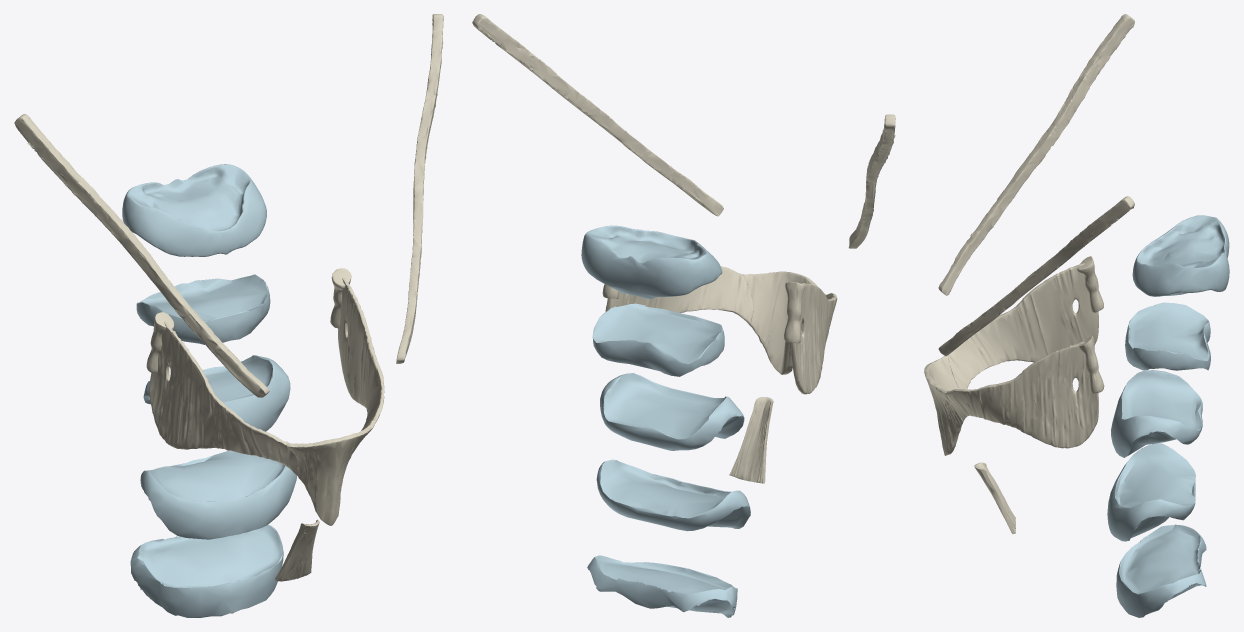
File: joints.neck.glb
3 renders of one model, left to right at view 1: azimuth 30°, elevation 25°; view 2: azimuth 150°, elevation 25°; view 3: azimuth 270°, elevation 25°, orthographic. The views are drawn at different scales.
Parts seen in each view (by area): view 1: intervertebral_disk_of_sixth_cervical_vertebra, intervertebral_disk_of_fifth_cervical_vertebra, intervertebral_disk_of_axis, right_thyrohyoid_membrane, right_stylohyoid_ligament, intervertebral_disk_of_third_cervical_vertebra, left_thyrohyoid_membrane, left_stylohyoid_ligament, intervertebral_disk_of_fourth_cervical_vertebra, median_thyrohyoid_ligament, median_cricothyroid_ligament, right_lateral_thyrohyoid_ligament (+1 smaller); view 2: intervertebral_disk_of_fourth_cervical_vertebra, intervertebral_disk_of_axis, intervertebral_disk_of_third_cervical_vertebra, intervertebral_disk_of_fifth_cervical_vertebra, intervertebral_disk_of_sixth_cervical_vertebra, left_stylohyoid_ligament, median_thyrohyoid_ligament, left_thyrohyoid_membrane, right_thyrohyoid_membrane, median_cricothyroid_ligament, right_stylohyoid_ligament, right_lateral_thyrohyoid_ligament; view 3: left_thyrohyoid_membrane, right_thyrohyoid_membrane, intervertebral_disk_of_fifth_cervical_vertebra, intervertebral_disk_of_axis, intervertebral_disk_of_sixth_cervical_vertebra, intervertebral_disk_of_fourth_cervical_vertebra, intervertebral_disk_of_third_cervical_vertebra, right_stylohyoid_ligament, left_stylohyoid_ligament, median_thyrohyoid_ligament, median_cricothyroid_ligament, right_lateral_thyrohyoid_ligament (+1 smaller).
Boxes of the visible parts, x1,y1,x2,y2 form: intervertebral_disk_of_sixth_cervical_vertebra: (130,524,283,617); intervertebral_disk_of_fifth_cervical_vertebra: (140,450,296,539); intervertebral_disk_of_axis: (122,164,266,256); right_thyrohyoid_membrane: (149,321,297,473); right_stylohyoid_ligament: (14,114,269,397); intervertebral_disk_of_third_cervical_vertebra: (136,274,270,344); left_thyrohyoid_membrane: (338,277,384,430); left_stylohyoid_ligament: (396,14,443,363); intervertebral_disk_of_fourth_cervical_vertebra: (143,355,290,448); median_thyrohyoid_ligament: (287,422,374,525); median_cricothyroid_ligament: (275,519,319,581); right_lateral_thyrohyoid_ligament: (146,312,174,373); intervertebral_disk_of_fourth_cervical_vertebra: (600,373,744,450); intervertebral_disk_of_axis: (581,225,722,299); intervertebral_disk_of_third_cervical_vertebra: (592,303,724,376); intervertebral_disk_of_fifth_cervical_vertebra: (596,459,750,531); intervertebral_disk_of_sixth_cervical_vertebra: (587,555,737,617); left_stylohyoid_ligament: (472,14,723,216); median_thyrohyoid_ligament: (742,271,818,374); left_thyrohyoid_membrane: (605,266,753,324); right_thyrohyoid_membrane: (791,283,837,394); median_cricothyroid_ligament: (729,397,773,483); right_stylohyoid_ligament: (848,114,895,248); right_lateral_thyrohyoid_ligament: (784,282,804,343); left_thyrohyoid_membrane: (946,341,1098,448); right_thyrohyoid_membrane: (948,263,1098,389); intervertebral_disk_of_fifth_cervical_vertebra: (1107,443,1195,541); intervertebral_disk_of_axis: (1132,215,1229,296); intervertebral_disk_of_sixth_cervical_vertebra: (1116,524,1206,617); intervertebral_disk_of_fourth_cervical_vertebra: (1111,370,1202,457); intervertebral_disk_of_third_cervical_vertebra: (1125,302,1210,370); right_stylohyoid_ligament: (938,14,1134,295); left_stylohyoid_ligament: (938,196,1134,356); median_thyrohyoid_ligament: (924,355,963,455); median_cricothyroid_ligament: (974,462,1015,533); right_lateral_thyrohyoid_ligament: (1077,256,1103,312).
Size of the model in its own units: 0.083 by 0.101 by 0.0568.
